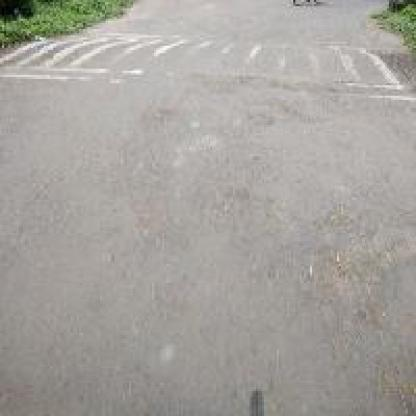Speed Bump: (0, 29, 414, 104)
